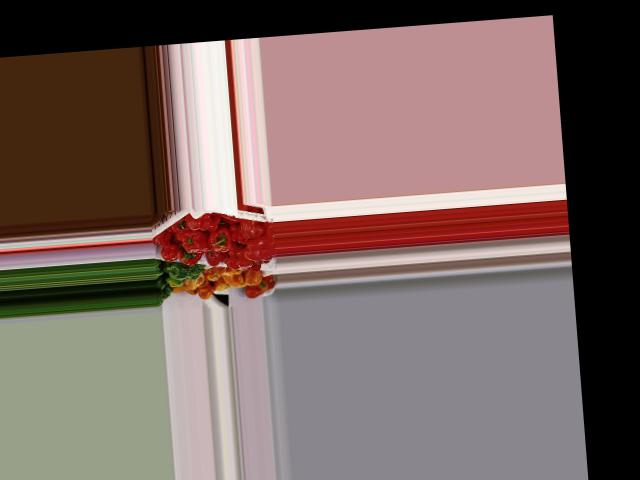bell_pepper: (184, 209, 222, 232)
